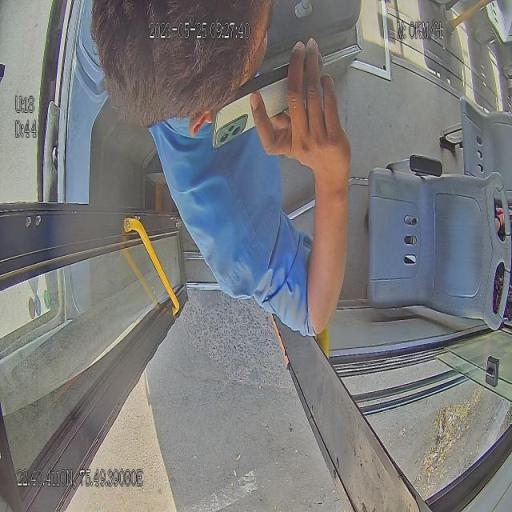persona: (90, 1, 352, 339)
